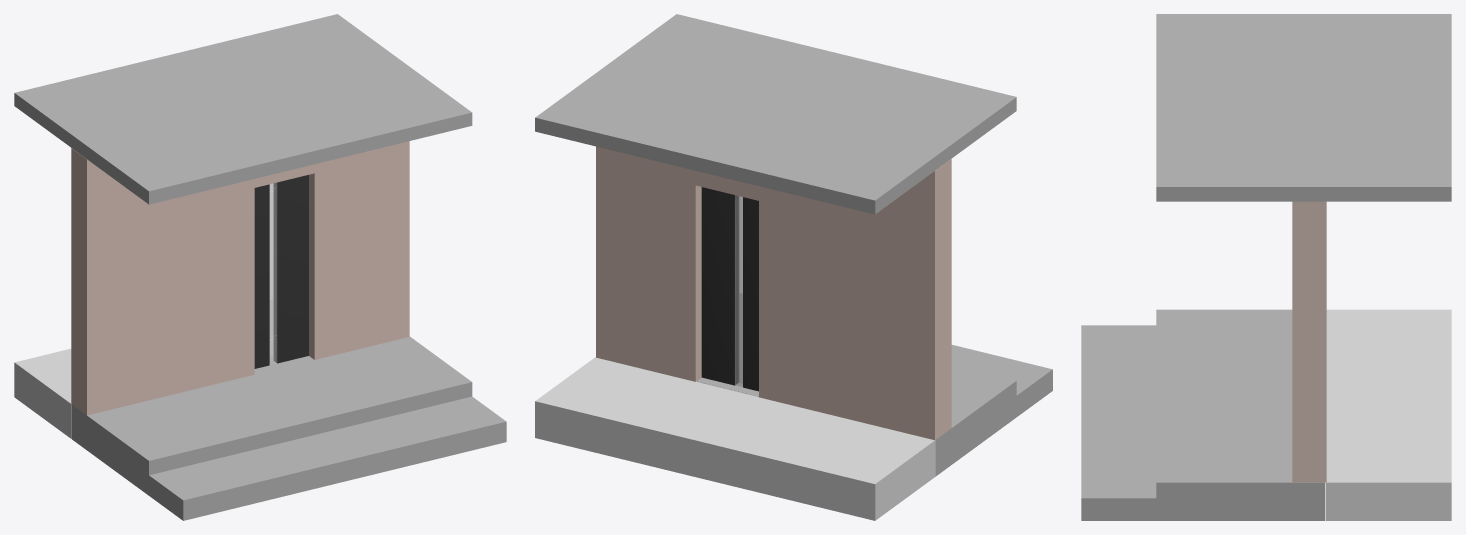
Rendered from full-redenumit.fbx.
3 views of the same model, side by side, from view 1: azimuth 30°, elevation 25°; view 2: azimuth 150°, elevation 25°; view 3: azimuth 270°, elevation 25° (orthographic). The views are drawn at different scales.
Visible parts, largest first — view 1: Plane012, PereteStanga, Plane010, PereteDreapta, Plane011, FoaieDreapta, Plane013, FoaieStanga, Sticla, PereteSus; view 2: Plane012, PereteStanga, Plane013, PereteDreapta, FoaieDreapta, Plane010, FoaieStanga, Plane011, PereteSus, Sticla; view 3: Plane012, Plane010, Plane013, Plane011, PereteDreapta.
Boxes of the visible parts, <box> form: Plane012: <box>14,14,472,204</box>; PereteStanga: <box>71,148,254,415</box>; Plane010: <box>72,336,472,495</box>; PereteDreapta: <box>309,141,409,359</box>; Plane011: <box>149,396,506,520</box>; FoaieDreapta: <box>273,175,308,363</box>; Plane013: <box>14,300,272,438</box>; FoaieStanga: <box>254,184,269,368</box>; Sticla: <box>269,182,277,364</box>; PereteSus: <box>156,145,404,211</box>; Plane012: <box>535,14,1016,214</box>; PereteStanga: <box>759,159,951,440</box>; Plane013: <box>535,357,935,520</box>; PereteDreapta: <box>596,146,701,381</box>; FoaieDreapta: <box>701,187,738,385</box>; Plane010: <box>696,313,1016,476</box>; FoaieStanga: <box>743,197,758,391</box>; Plane011: <box>740,293,1052,416</box>; PereteSus: <box>600,148,821,210</box>; Sticla: <box>735,195,742,386</box>; Plane012: <box>1156,14,1451,201</box>; Plane010: <box>1156,309,1325,520</box>; Plane013: <box>1326,309,1451,520</box>; Plane011: <box>1081,325,1156,520</box>; PereteDreapta: <box>1292,201,1326,482</box>.
Size of the model in its own units: 343 by 309 by 311.
